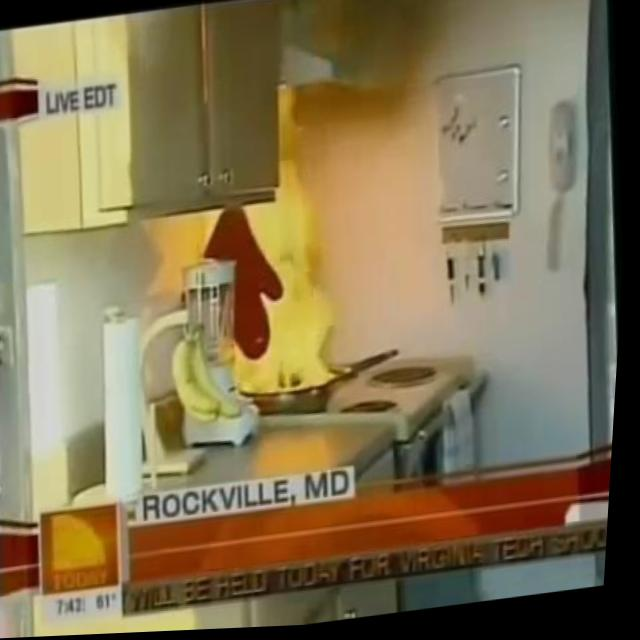fire: (178, 79, 359, 409)
